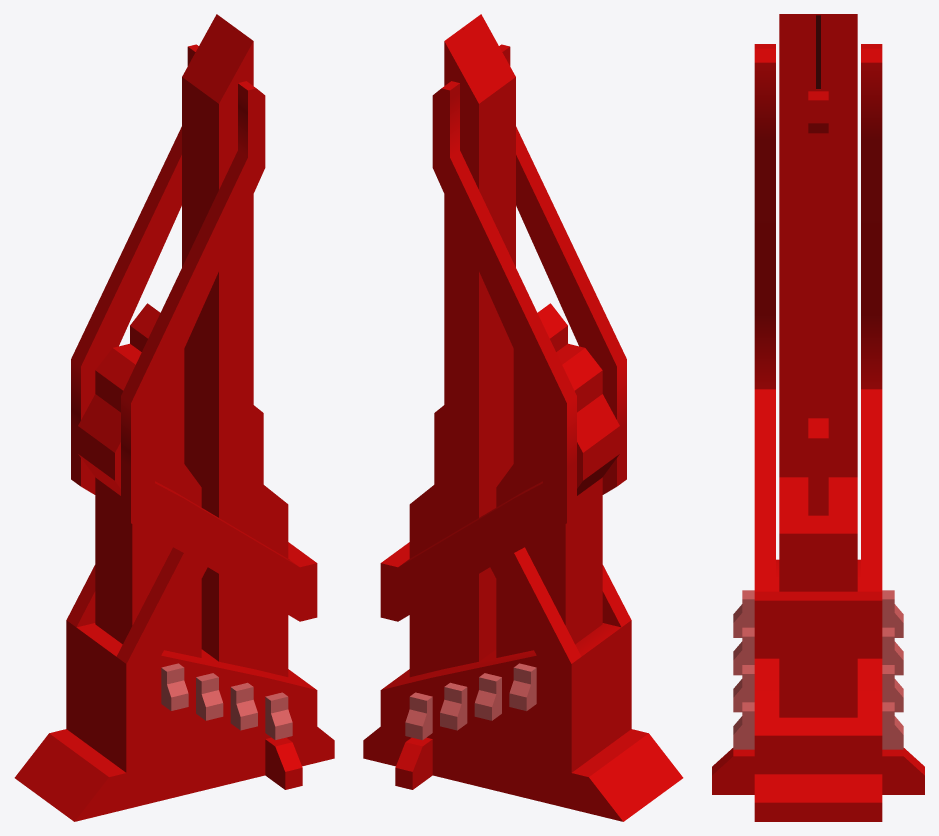
The picture shows the model from 3 angles, left to right: view 1: azimuth 30°, elevation 25°; view 2: azimuth 150°, elevation 25°; view 3: azimuth 270°, elevation 25°; orthographic projection. The views are drawn at different scales.
Visible parts, largest first — view 1: FV346; view 2: FV346; view 3: FV346.
Boxes of the visible parts, bbox=[...] form: FV346: bbox=[14, 14, 334, 821]; FV346: bbox=[363, 14, 683, 821]; FV346: bbox=[712, 14, 924, 821].
Bounding box in the file's own units: 0.7004 × 1.87 × 0.4669.
